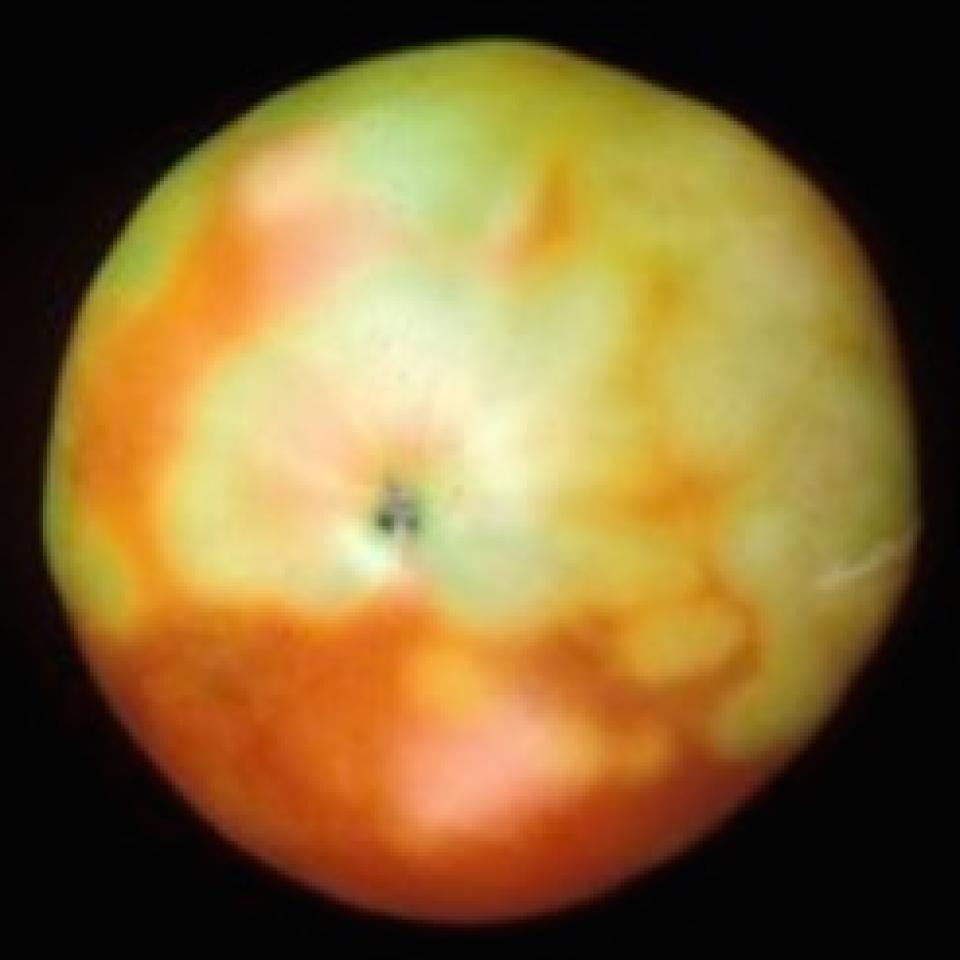Spotted wilt Virus: (43, 45, 913, 915)
